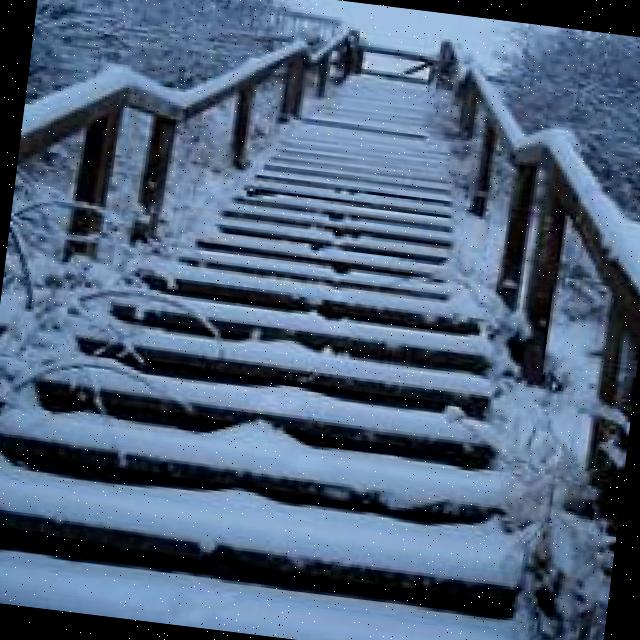stairs: (0, 27, 584, 621)
